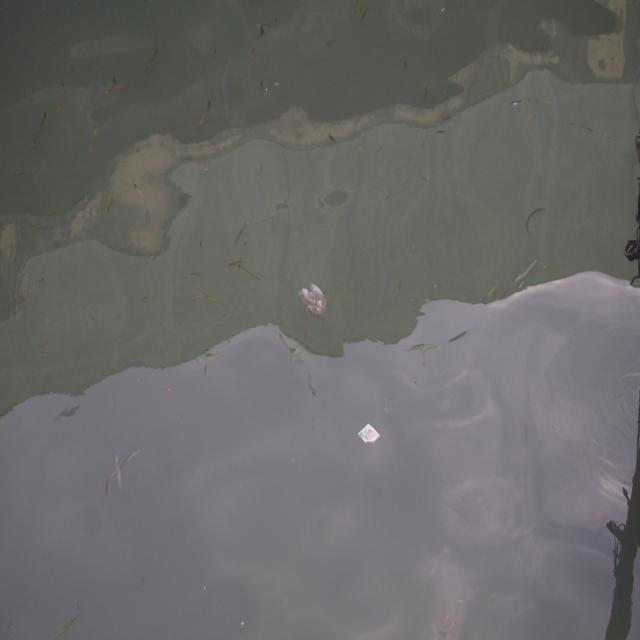Bungkus Minuman: (357, 417, 383, 452)
Kantong Plastik: (296, 278, 330, 324)
